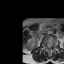CCS_normal: (48, 43, 50, 50)
LFS_stenosis: (51, 43, 53, 48)
LLS_normal: (50, 43, 51, 48)
RFS_severe_stenosis: (45, 43, 47, 48)
RLS_stenosis: (47, 43, 48, 48)
